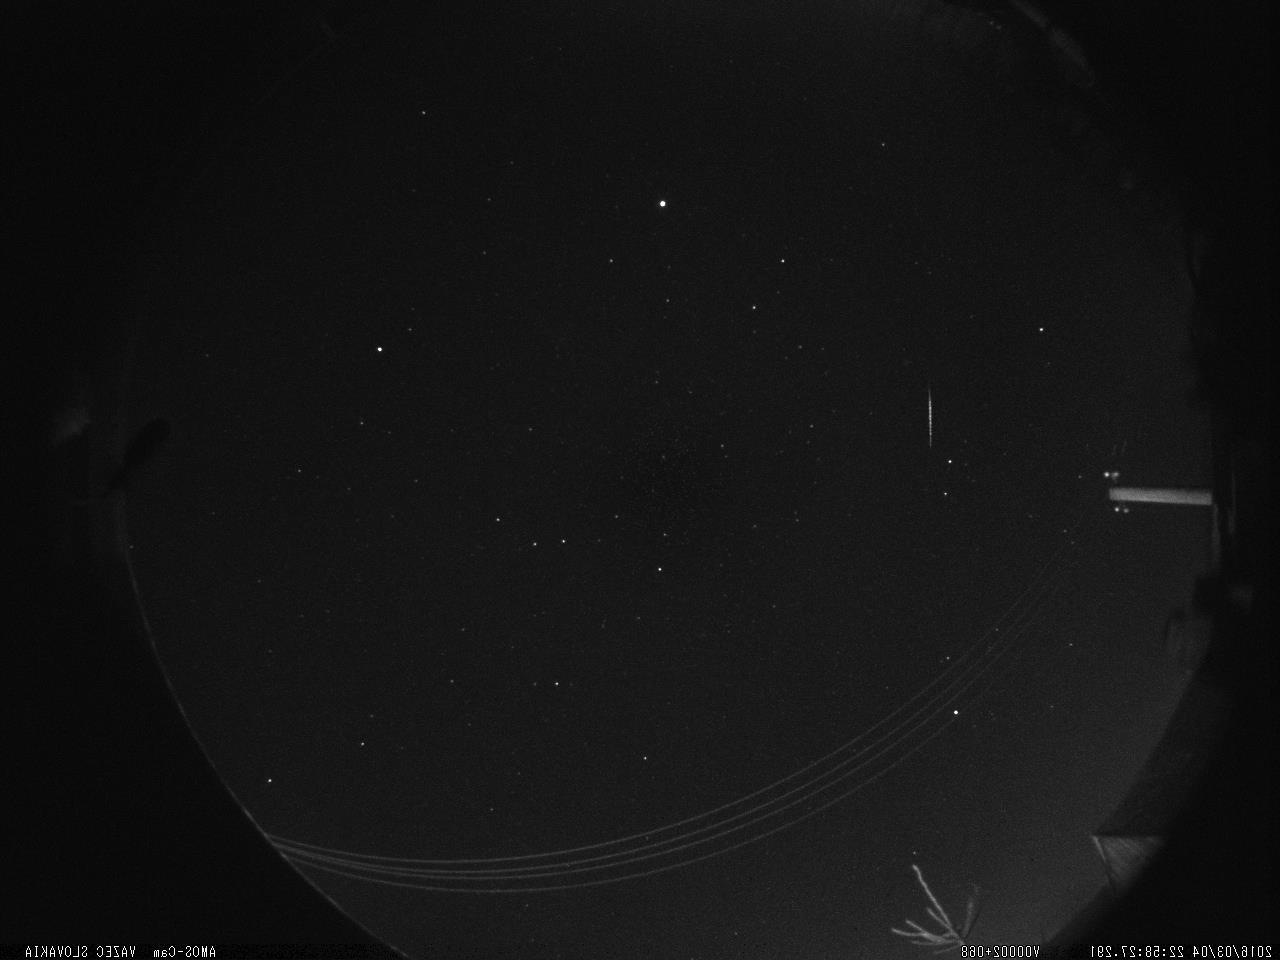meteor: (919, 382, 940, 452)
